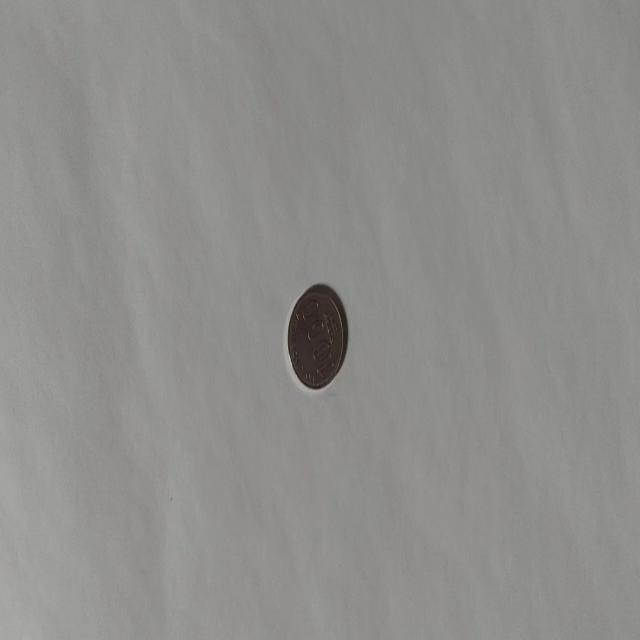seribu rupiah koin: (286, 282, 346, 391)
